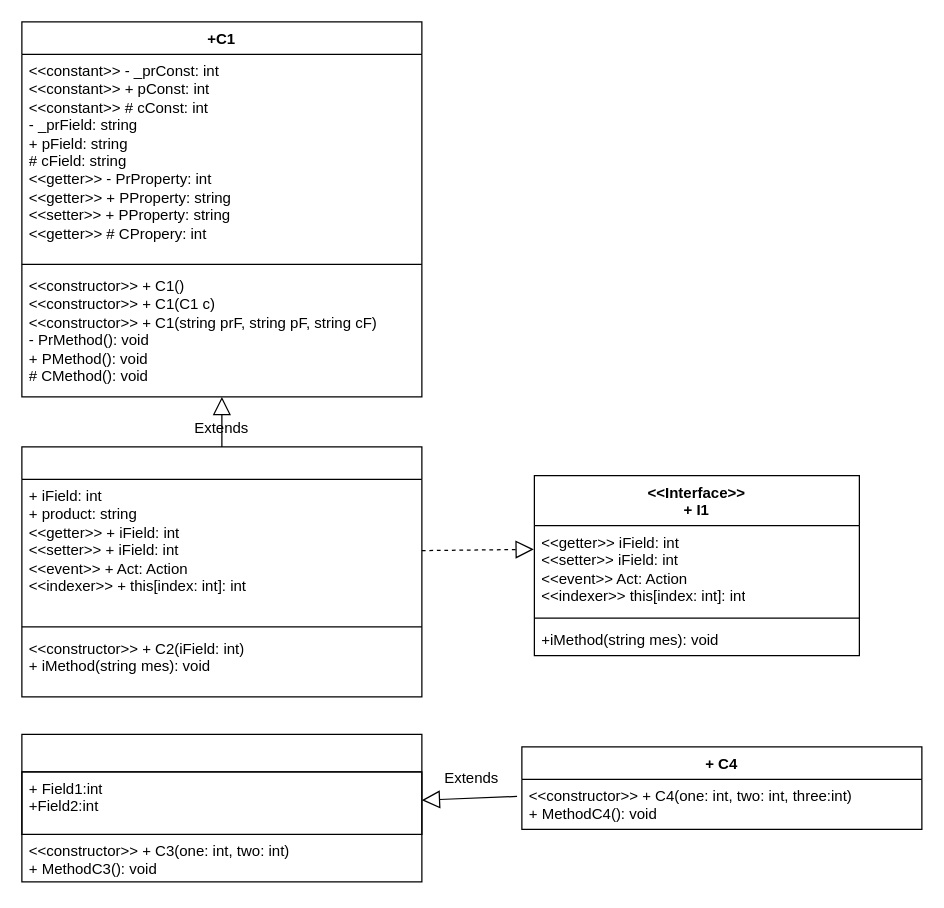
The diagram is 944 pixels wide and 908 high, and some of its shapes have lost their labels. Here are the shapes that lost their labels. From the top down, the box of each, then its label:
(21, 446, 422, 697): + C2
(21, 733, 422, 882): + C3
